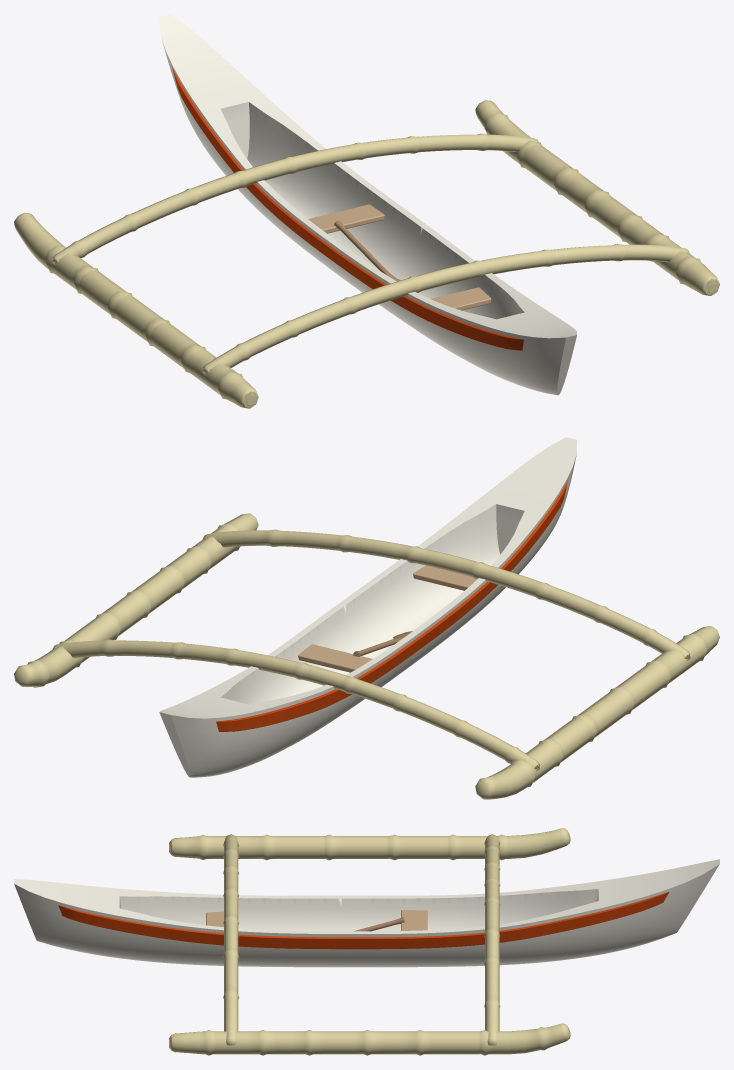
Rendered from boat_bangka_9919.glb.
The picture shows the model from 3 angles, top to bottom: view 1: azimuth 30°, elevation 25°; view 2: azimuth 150°, elevation 25°; view 3: azimuth 270°, elevation 25°; orthographic projection. The views are drawn at different scales.
Parts seen in each view (by area): view 1: bangka_9919_paint_hull, bangka_9919_bamboo, bangka_9919_paint_trim, bangka_9919_plank; view 2: bangka_9919_paint_hull, bangka_9919_bamboo, bangka_9919_paint_trim, bangka_9919_plank; view 3: bangka_9919_paint_hull, bangka_9919_bamboo, bangka_9919_paint_trim, bangka_9919_plank.
Part boxes in pixels (x1,y1,x2,y2): bangka_9919_paint_hull: (159, 14, 577, 395); bangka_9919_bamboo: (14, 100, 719, 408); bangka_9919_paint_trim: (172, 67, 523, 350); bangka_9919_plank: (308, 204, 491, 310); bangka_9919_paint_hull: (159, 437, 577, 777); bangka_9919_bamboo: (14, 513, 719, 799); bangka_9919_paint_trim: (216, 480, 567, 731); bangka_9919_plank: (298, 565, 477, 672); bangka_9919_paint_hull: (14, 859, 719, 967); bangka_9919_bamboo: (169, 828, 570, 1055); bangka_9919_paint_trim: (58, 892, 668, 949); bangka_9919_plank: (206, 910, 427, 930).
Bounding box in the file's own units: 4.4 × 1.01 × 6.35.
